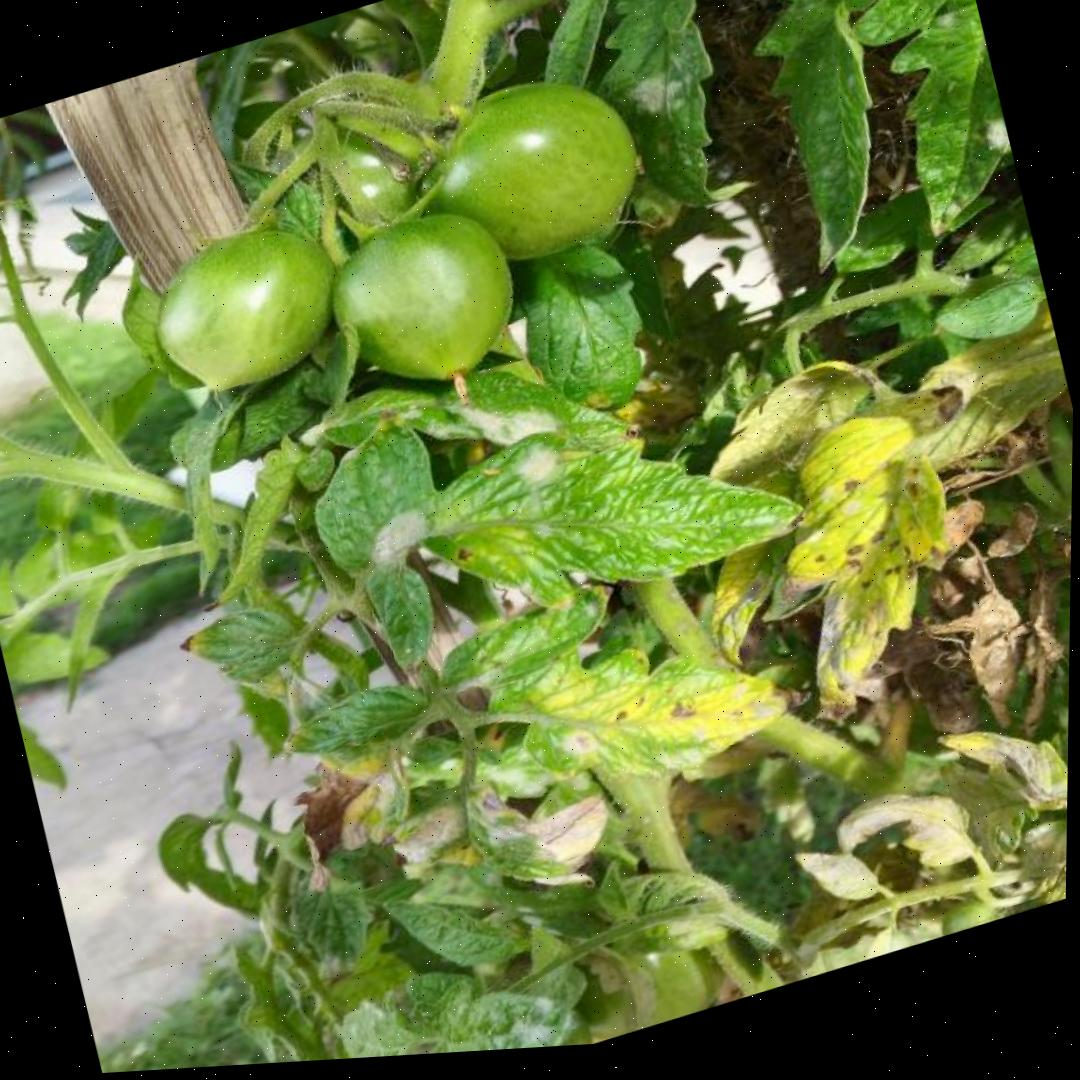mentah: (403, 53, 658, 290), (317, 191, 532, 414), (136, 205, 357, 413)
